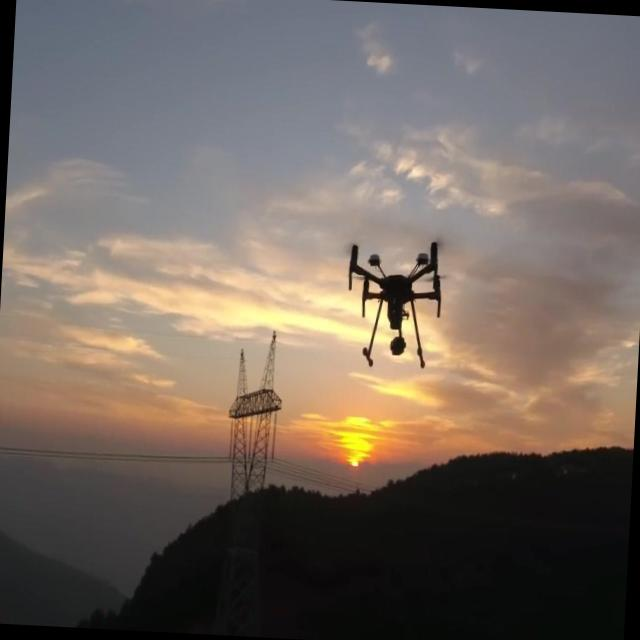drone: (342, 234, 446, 370)
